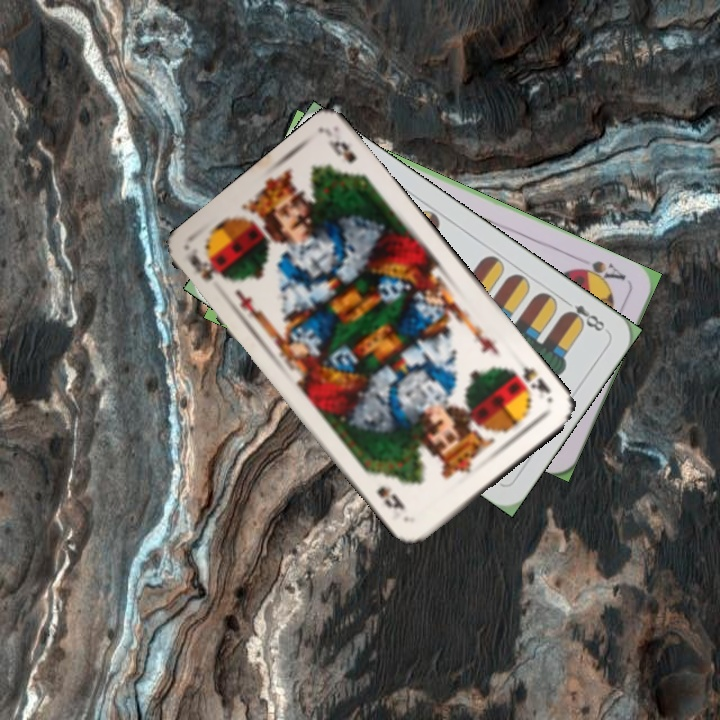E8: (559, 295, 608, 335)
SA: (571, 256, 629, 287)
SK: (506, 362, 556, 405), (184, 250, 221, 284)
